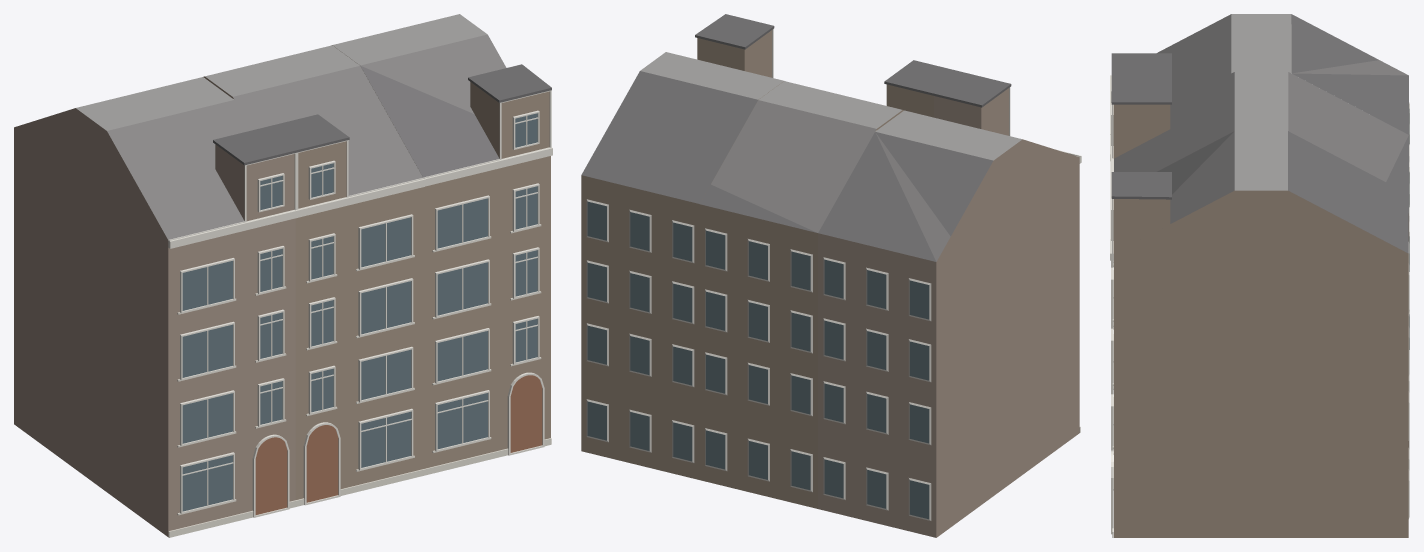
The model's file is chunk-face-sarphati-163-213-r2.glb.
3 renders of one model, left to right at view 1: azimuth 30°, elevation 25°; view 2: azimuth 150°, elevation 25°; view 3: azimuth 270°, elevation 25°, orthographic. The views are drawn at different scales.
Visible parts, largest first — view 1: face-sarphati-163-213-r2; view 2: face-sarphati-163-213-r2; view 3: face-sarphati-163-213-r2.
Boxes of the visible parts, x1,y1,x2,y2 form: face-sarphati-163-213-r2: (14,14,552,537); face-sarphati-163-213-r2: (581,14,1081,537); face-sarphati-163-213-r2: (1110,14,1409,537).
Size of the model in its own units: 19.47 by 17.6 by 13.76.
